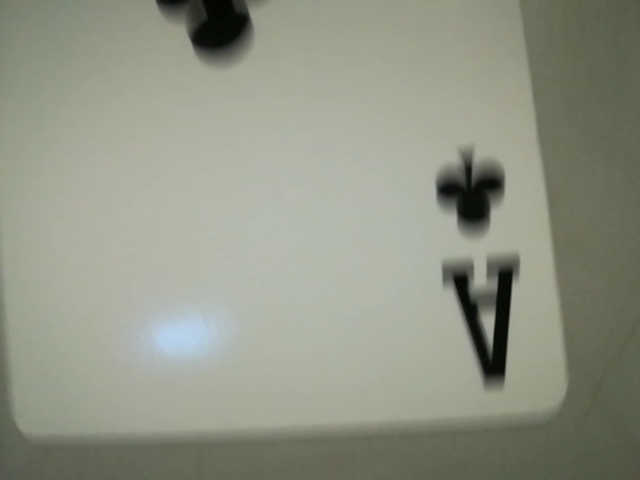mh a: (406, 122, 545, 400)
